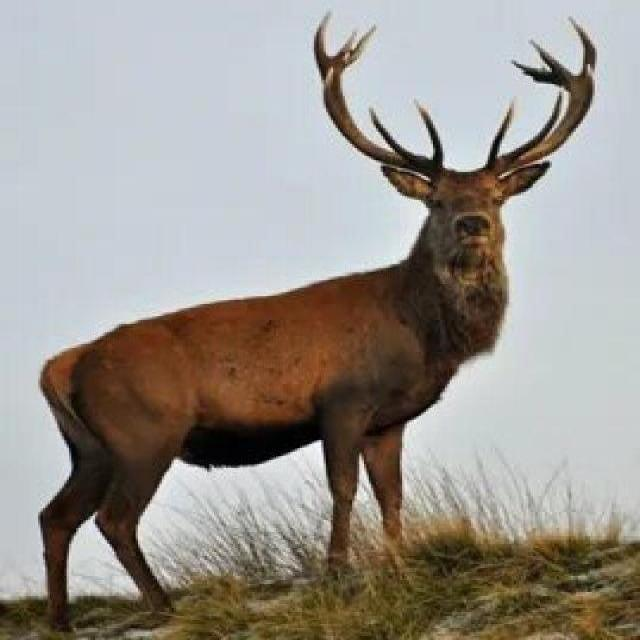deer: (23, 60, 604, 592)
